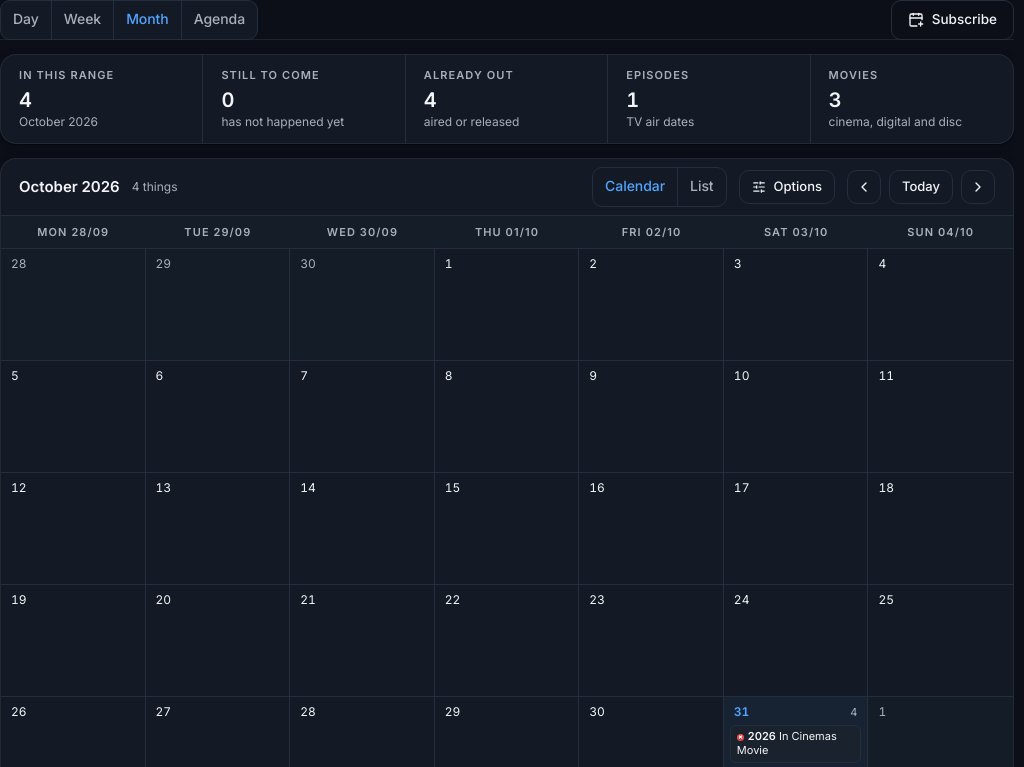
Test: Calendar release-type switches hide only their own type › hides a physical release when the Physical switch is off, and shows it again when turned back on
Click the radio button labelled "List" at (702, 186), box x1=678 y1=168 x2=726 y2=206
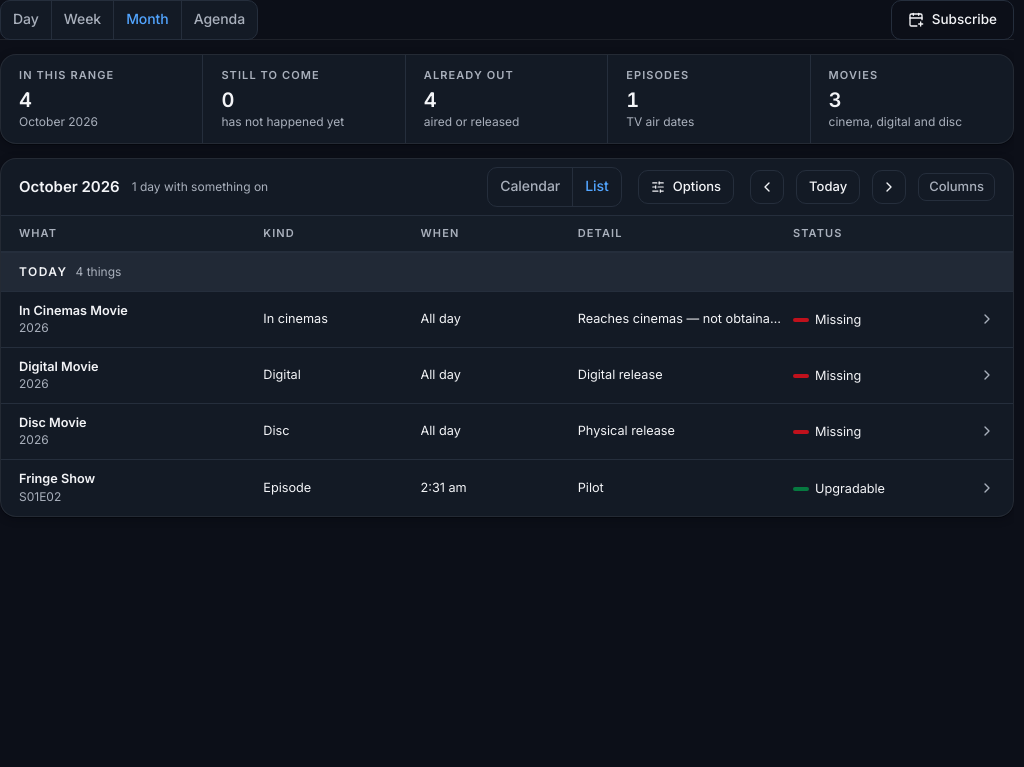
Expected: the text "Disc Movie" is shown, x1=19 y1=415 x2=86 y2=430
Click the button "Options" at (686, 186), box x1=638 y1=170 x2=734 y2=204
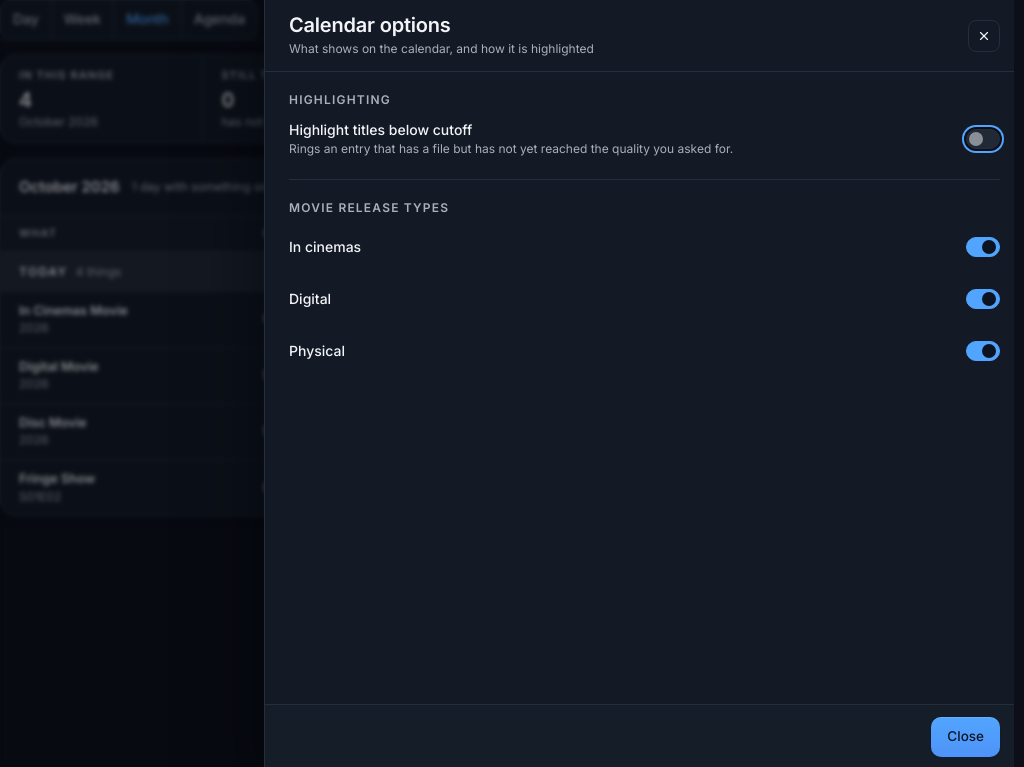
Click the 4th switch named "Physical" at (983, 351), box x1=966 y1=341 x2=1000 y2=361
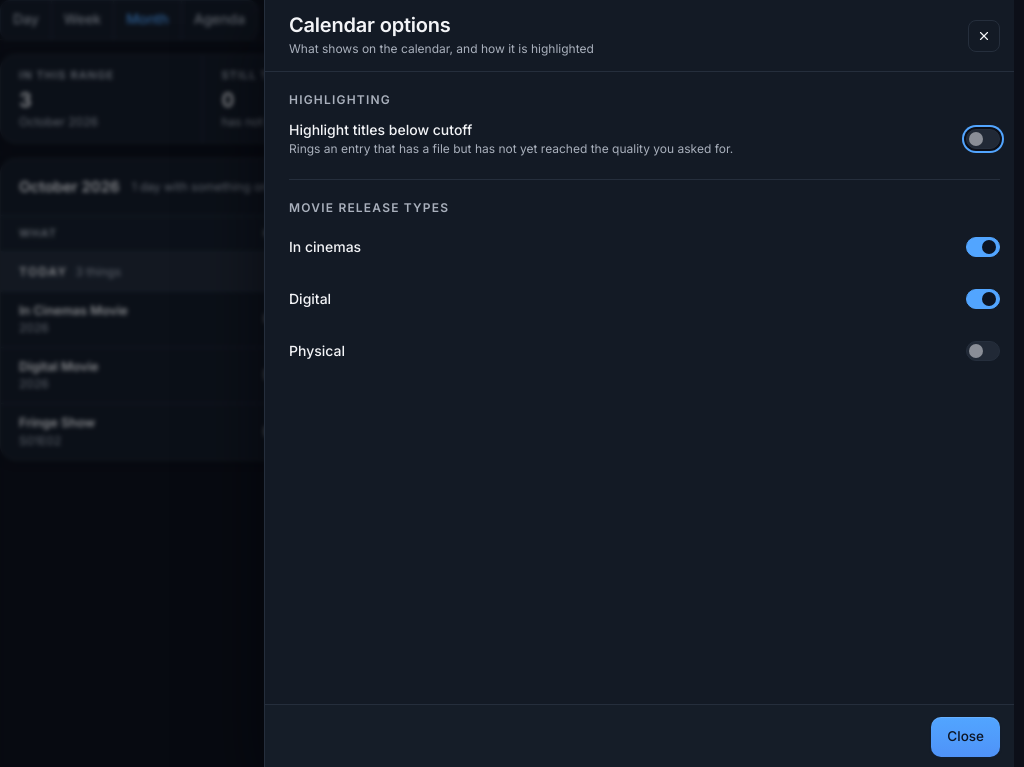
Expected: the text "Digital Movie" is shown, x1=19 y1=359 x2=98 y2=374
Result: the text "Disc Movie" is gone
Click the switch named "Physical" in the row of "Physical" at (983, 351), box x1=966 y1=341 x2=1000 y2=361
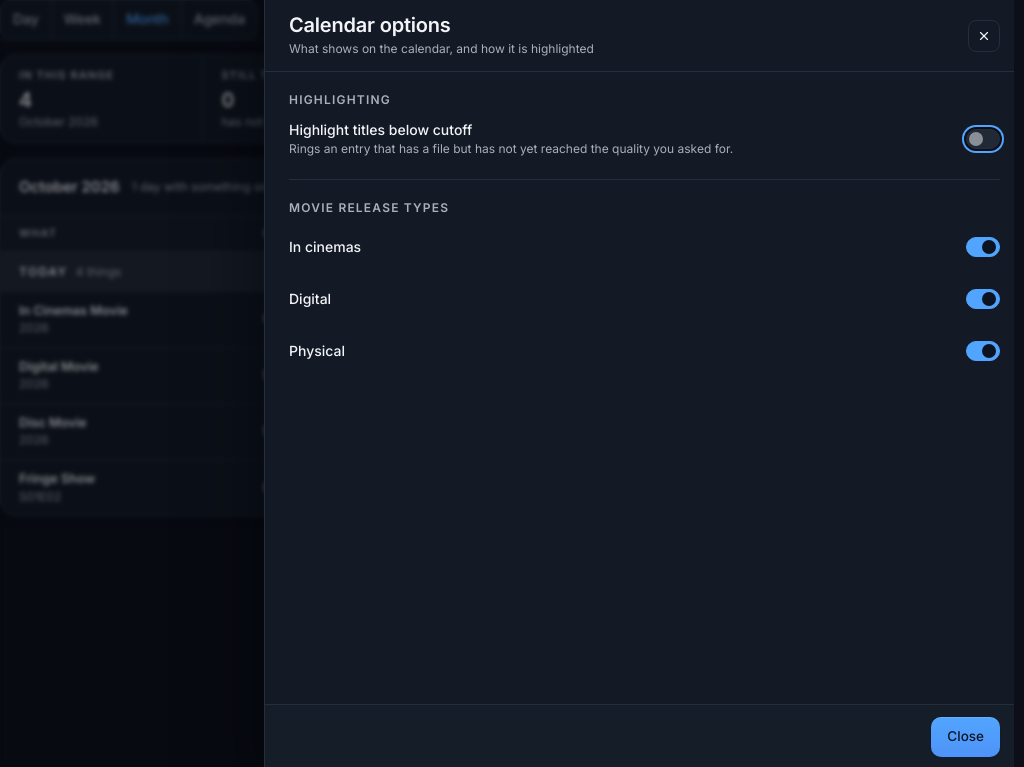
Result: the text "Disc Movie" is shown at x1=19 y1=415 x2=86 y2=430
